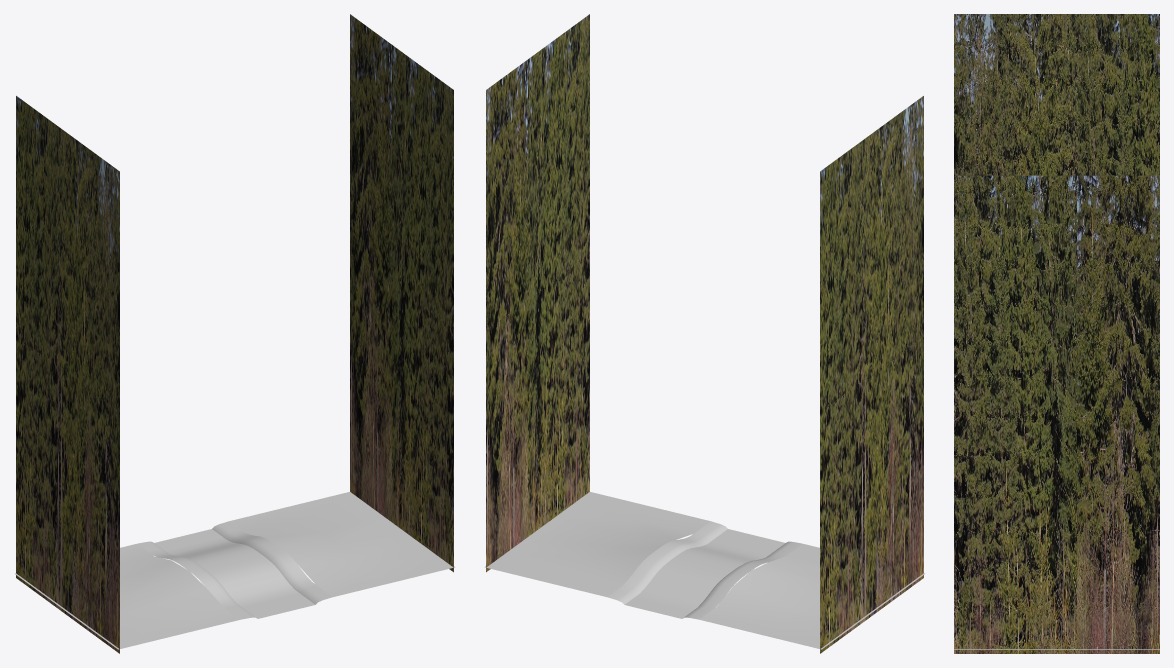
File: hyppyri_seinät.FBX
The picture shows the model from 3 angles, left to right: view 1: azimuth 30°, elevation 25°; view 2: azimuth 150°, elevation 25°; view 3: azimuth 270°, elevation 25°; orthographic projection.
Parts seen in each view (by area): view 1: Plane019, Plane020, Plane021, hyppyri001; view 2: Plane019, Plane020, Plane021, hyppyri001; view 3: Plane020, Plane019.
Boxes of the visible parts, x1,y1,x2,y2 form: Plane019: (16, 96, 119, 653); Plane020: (350, 14, 453, 572); Plane021: (15, 492, 455, 649); hyppyri001: (137, 521, 332, 619); Plane019: (820, 96, 923, 653); Plane020: (486, 14, 589, 572); Plane021: (484, 492, 924, 649); hyppyri001: (607, 521, 802, 619); Plane020: (954, 175, 1159, 653); Plane019: (954, 14, 1159, 175).
Size of the model in its own units: 525 by 718 by 280.
